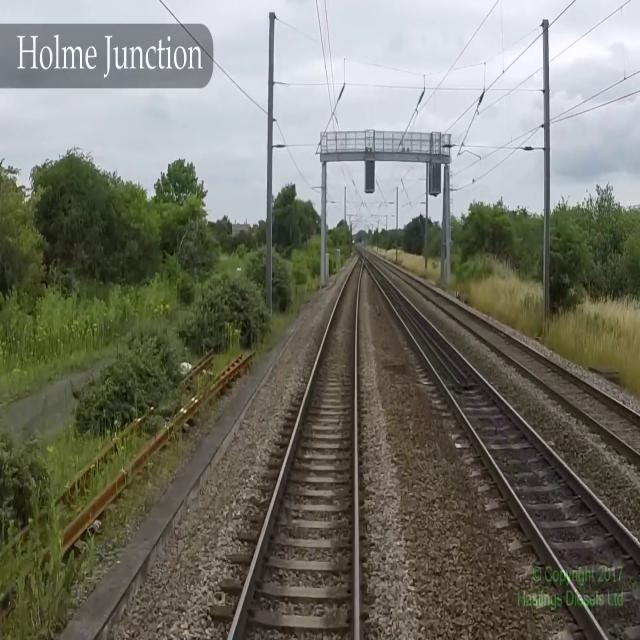rail-track: (364, 256, 640, 639), (373, 255, 640, 451), (231, 256, 362, 639)
